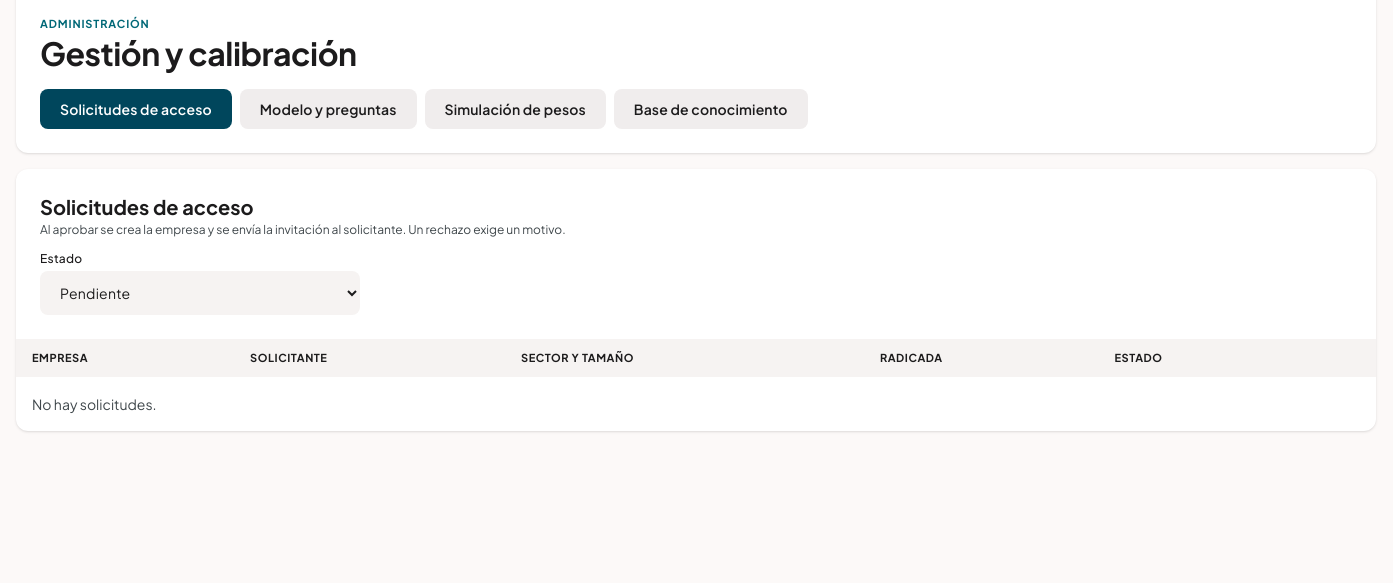
HU-035 · Simular cambio de pesos › muestra el mensaje del servidor si los pesos no suman 1
The width and height of the screenshot is (1393, 583).
Click the tab "Simulación de pesos": (515, 109) x1=424 y1=89 x2=606 y2=129
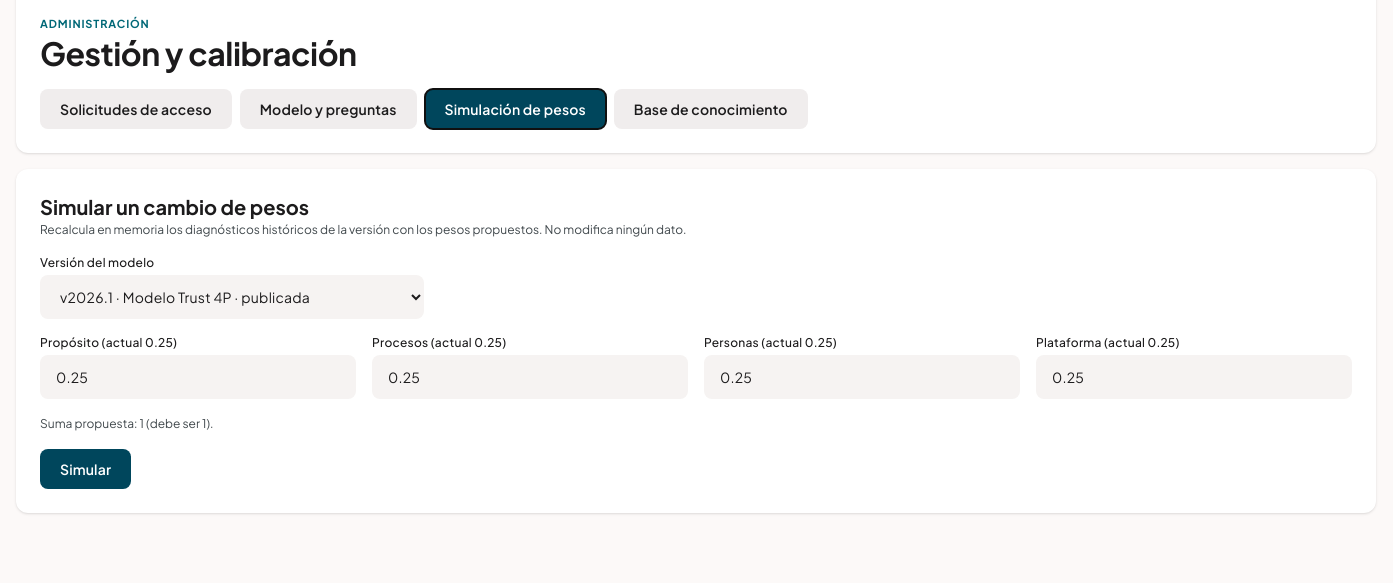
Result: the number field labelled "Propósito (actual 0.25)" is shown
Replace the text in the number field labelled "Propósito (actual 0.25)" with "0.9": (198, 377) x1=40 y1=355 x2=356 y2=399
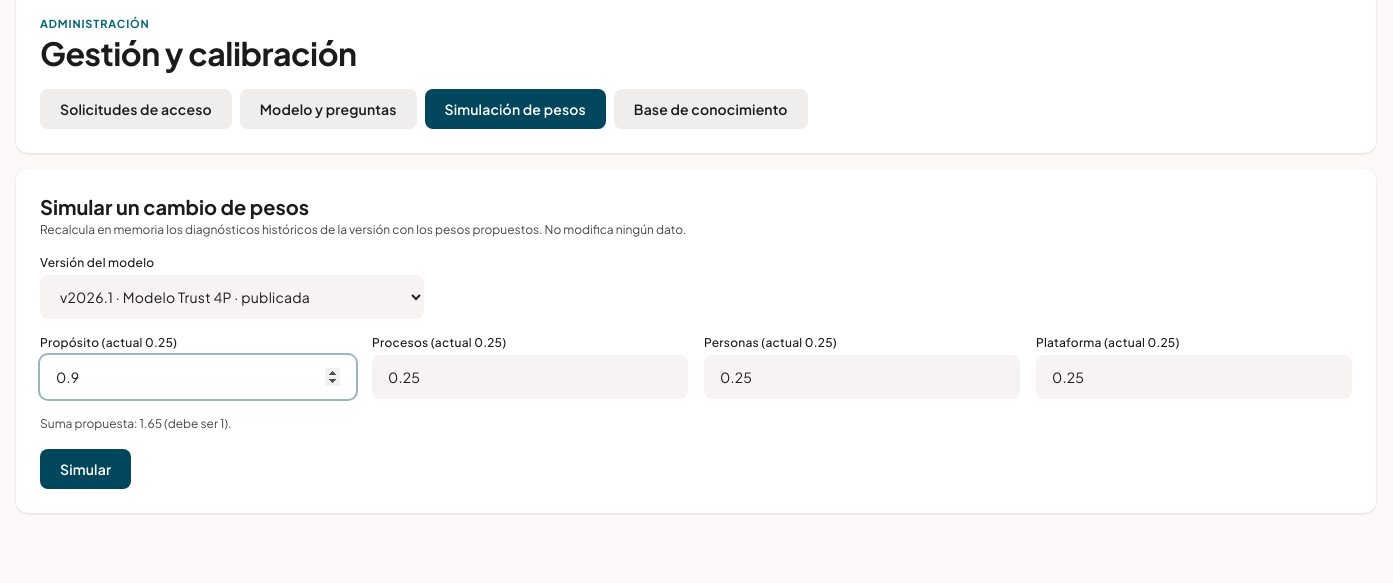
Click the button "Simular": (86, 469) x1=40 y1=449 x2=131 y2=489
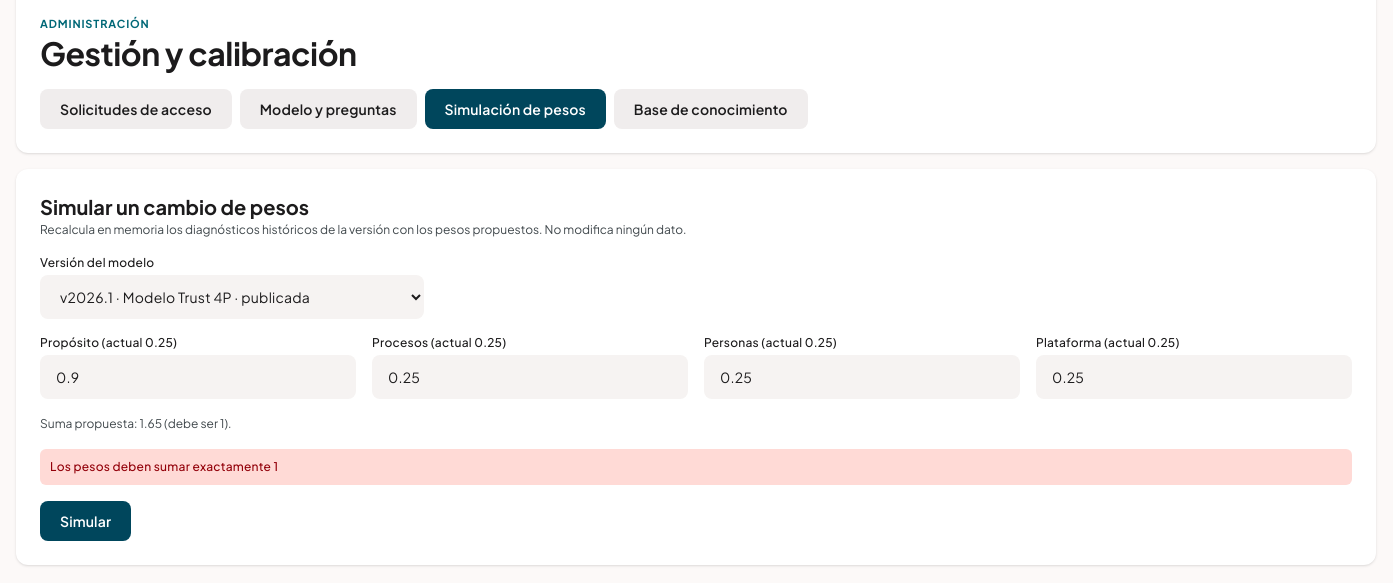
Result: the text "Los pesos deben sumar exactamente 1" is shown at x1=40 y1=449 x2=1352 y2=485
